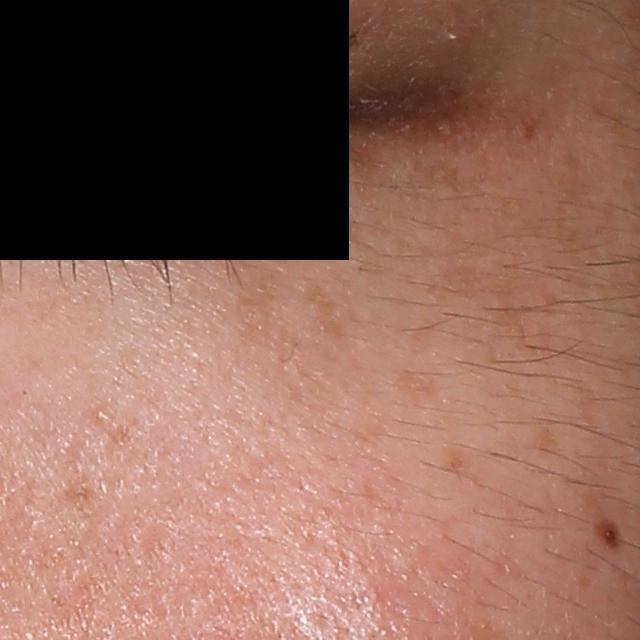melasma: (419, 244, 574, 366), (541, 140, 599, 266), (233, 271, 303, 352), (397, 155, 486, 199), (303, 281, 365, 344), (57, 470, 107, 518), (392, 362, 445, 406), (521, 418, 569, 456), (434, 440, 478, 474)
